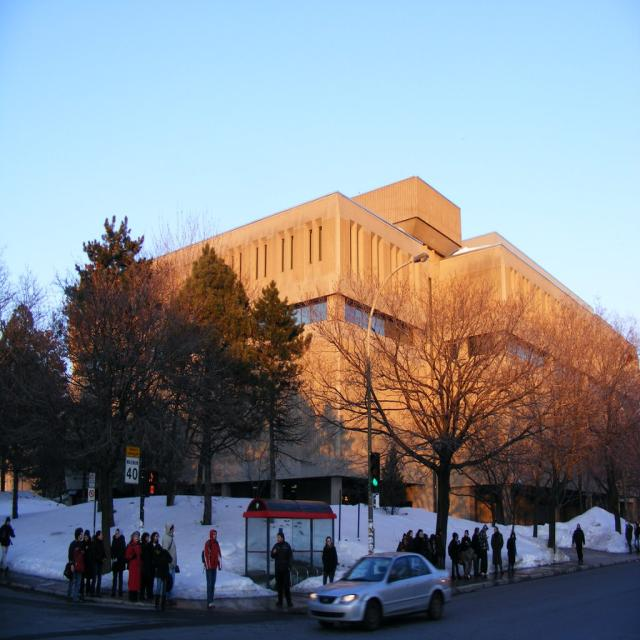car: (301, 548, 457, 629)
